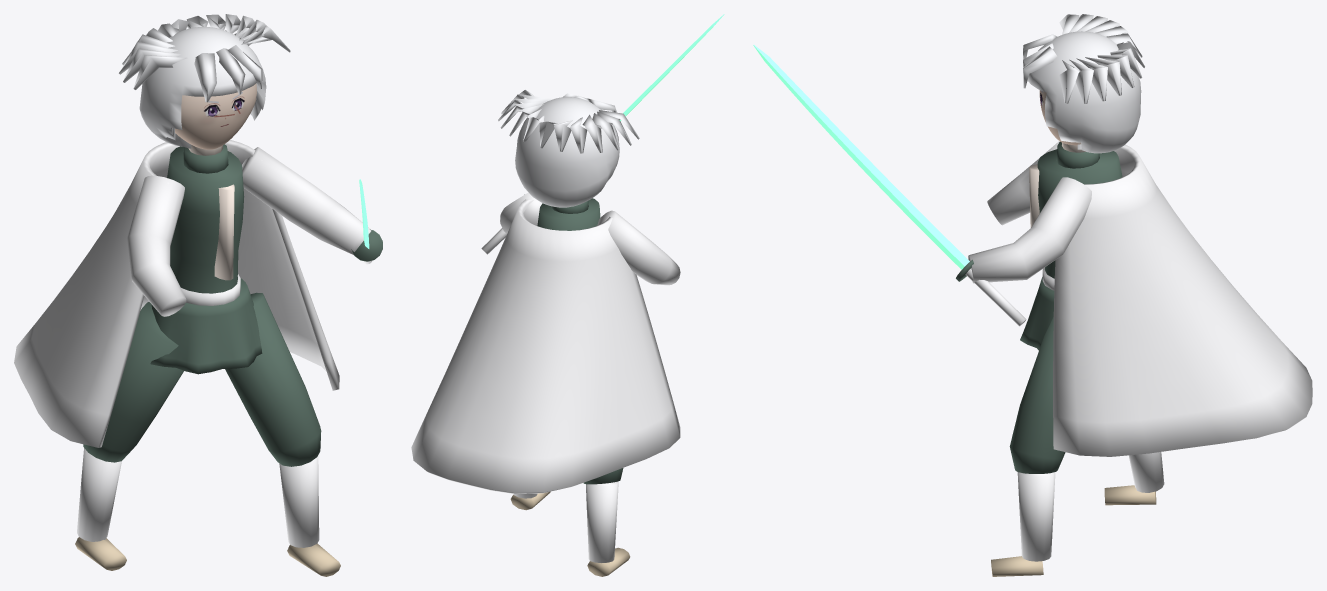
Rendered from sanemi.glb.
The picture shows the model from 3 angles, left to right: view 1: azimuth 30°, elevation 25°; view 2: azimuth 150°, elevation 25°; view 3: azimuth 270°, elevation 25°; orthographic projection. The views are drawn at different scales.
Visible parts, largest first — view 1: WhiteHaori, LegR_P, Torso, HairCrown, HipHem, LegL_P, ArmL, ArmR, Head, LegR_W, LegL_W, OpenChest (+10 smaller); view 2: WhiteHaori, HairCrown, ArmL, LegL_W, Torso, ArmR, FootL, WindKatana_blade; view 3: WhiteHaori, HairCrown, ArmR, LegR_P, WindKatana_blade, LegR_W, Torso, ArmL, HipHem, LegL_W, FootR, FootL (+2 smaller).
Part boxes in pixels (left/top/right/bottom): WhiteHaori: left=14, top=140, right=339, bottom=447; LegR_P: left=225, top=292, right=321, bottom=466; Torso: left=167, top=146, right=244, bottom=293; HairCrown: left=139, top=26, right=266, bottom=148; HipHem: left=150, top=278, right=262, bottom=374; LegL_P: left=83, top=302, right=183, bottom=462; ArmL: left=127, top=175, right=186, bottom=316; ArmR: left=242, top=147, right=371, bottom=254; Head: left=175, top=83, right=256, bottom=149; LegR_W: left=279, top=455, right=319, bottom=547; LegL_W: left=77, top=448, right=121, bottom=541; OpenChest: left=214, top=184, right=234, bottom=280; WhiteHaori: left=411, top=199, right=680, bottom=493; HairCrown: left=515, top=97, right=619, bottom=207; ArmL: left=597, top=210, right=680, bottom=285; LegL_W: left=586, top=481, right=618, bottom=562; Torso: left=537, top=198, right=600, bottom=230; ArmR: left=500, top=192, right=542, bottom=233; FootL: left=587, top=547, right=630, bottom=576; WindKatana_blade: left=619, top=14, right=724, bottom=121; WhiteHaori: left=1053, top=144, right=1312, bottom=456; HairCrown: left=1027, top=31, right=1141, bottom=153; ArmR: left=968, top=177, right=1091, bottom=283; LegR_P: left=1009, top=317, right=1065, bottom=473; WindKatana_blade: left=753, top=45, right=969, bottom=269; LegR_W: left=1017, top=472, right=1055, bottom=561; Torso: left=1037, top=149, right=1122, bottom=278; ArmL: left=987, top=141, right=1059, bottom=225; HipHem: left=1020, top=277, right=1054, bottom=350; LegL_W: left=1128, top=452, right=1164, bottom=492; FootR: left=991, top=556, right=1043, bottom=576; FootL: left=1104, top=485, right=1156, bottom=505.
Size of the model in its own units: 1.01 by 1.86 by 1.88.
Materials: 7 (1 with a texture image).
